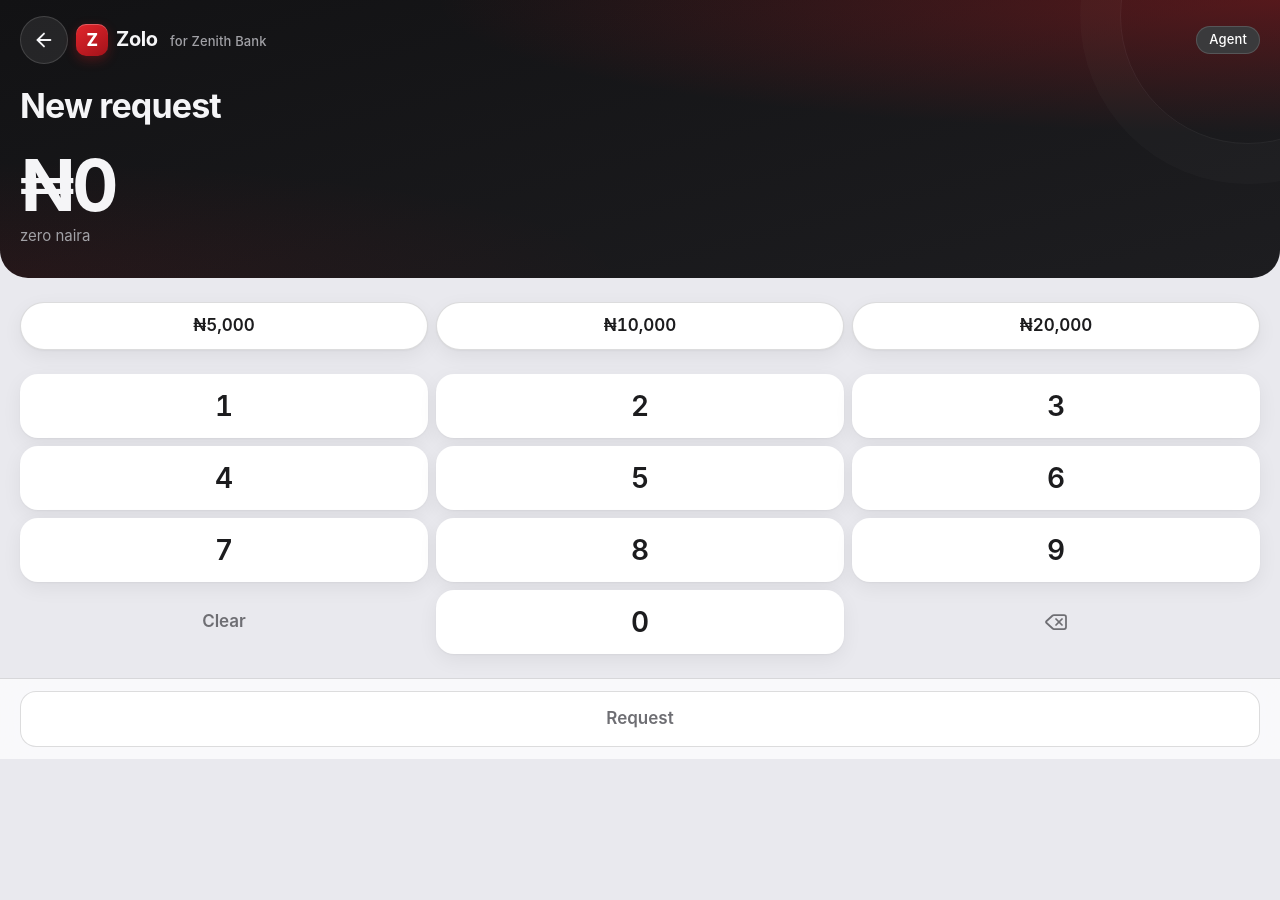
Scenario: Agent: new request › types an amount on the keypad, shows it with words, and the request button names it
Click the button "1" at (224, 406), box [20, 374, 428, 438]
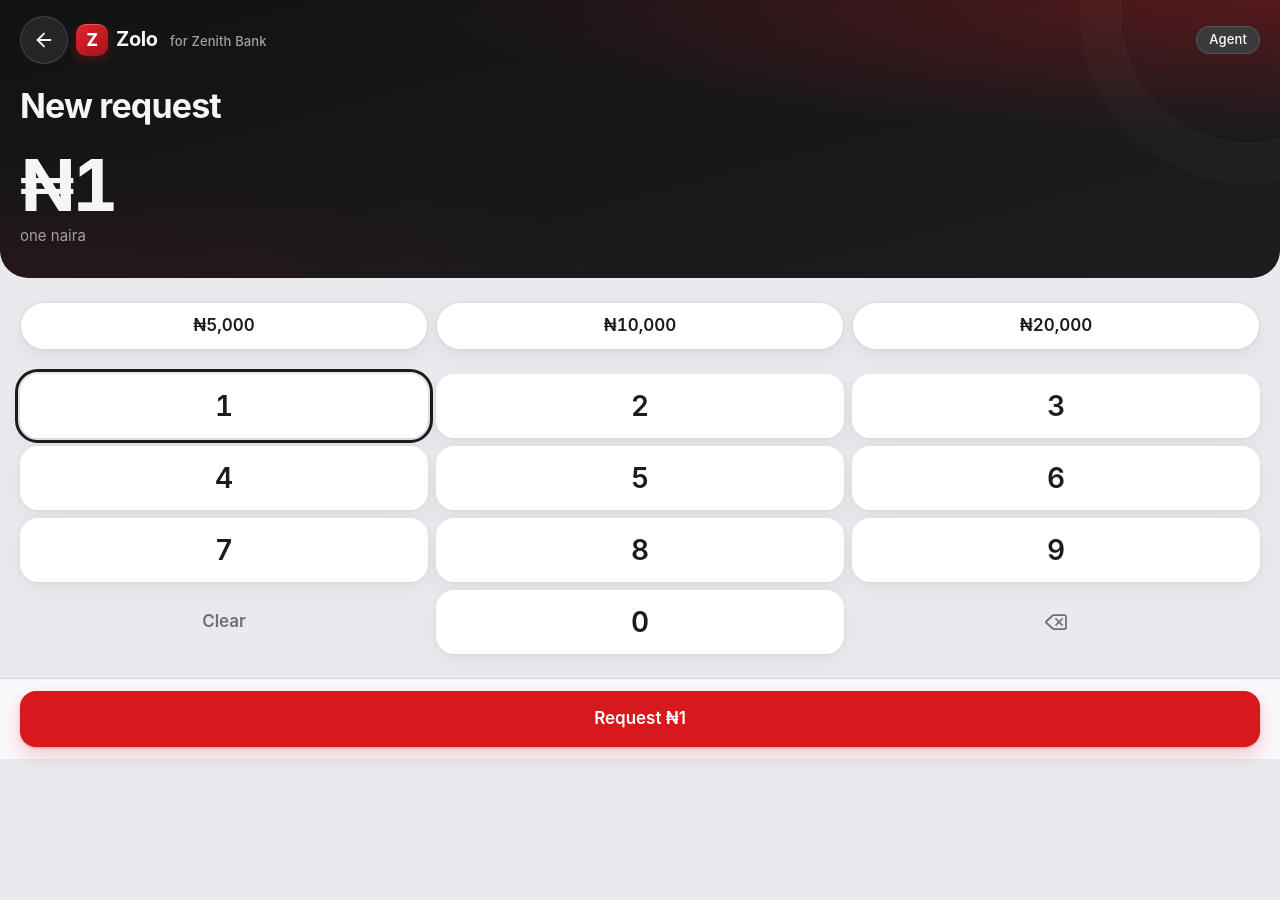
Click the button "5" at (640, 478), box [436, 446, 844, 510]
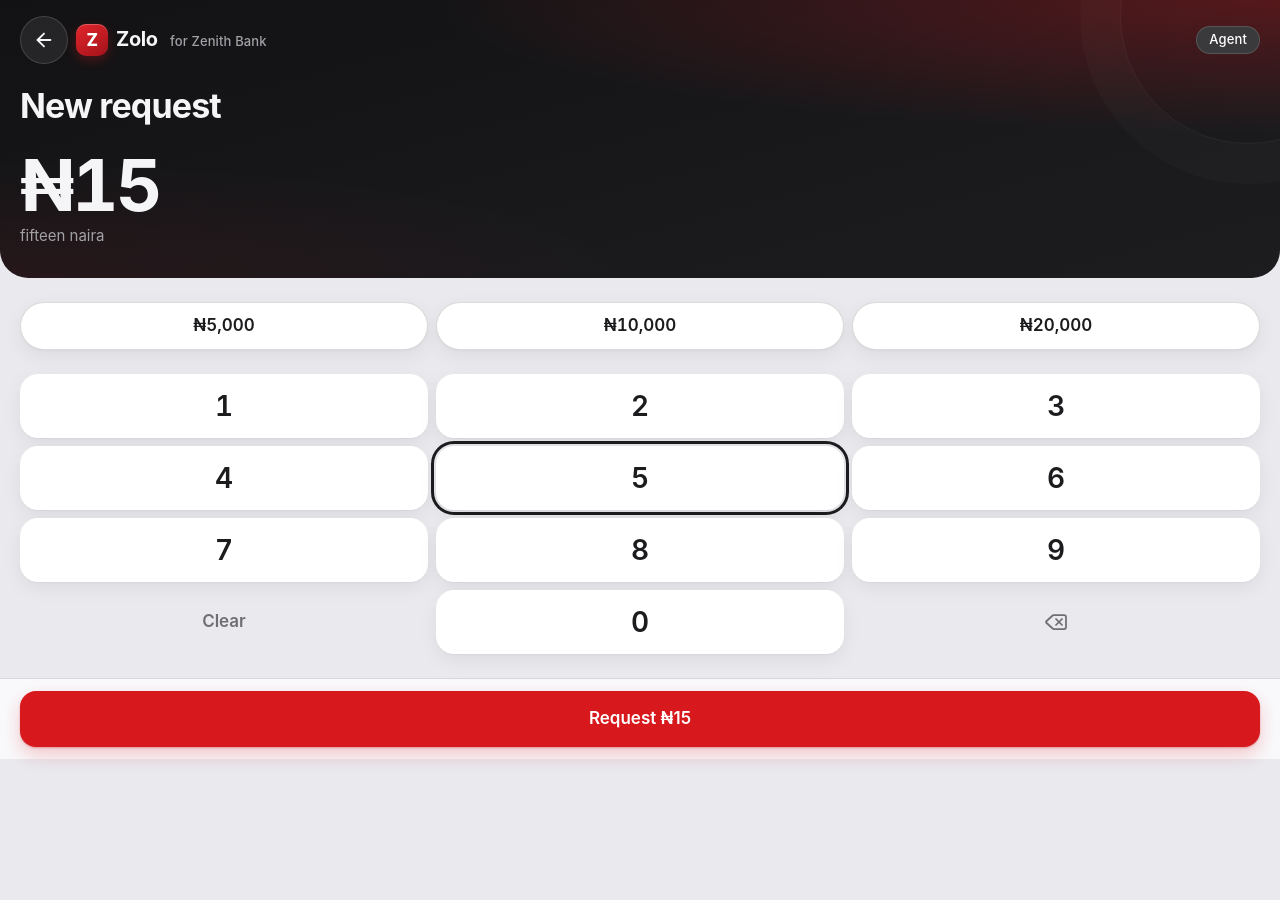
Click the button "0" at (640, 622), box [436, 590, 844, 654]
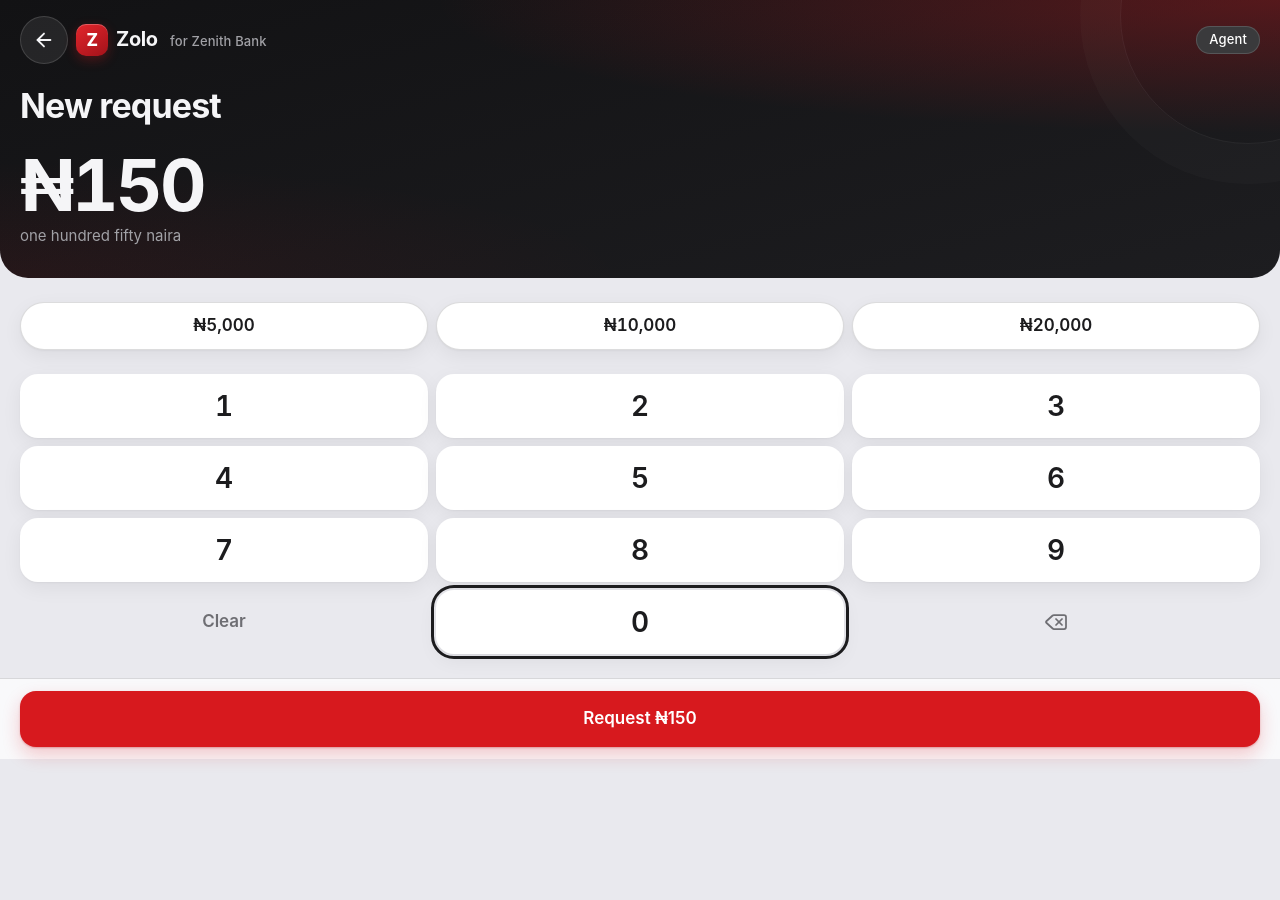
Click the button "0" at (640, 622), box [436, 590, 844, 654]
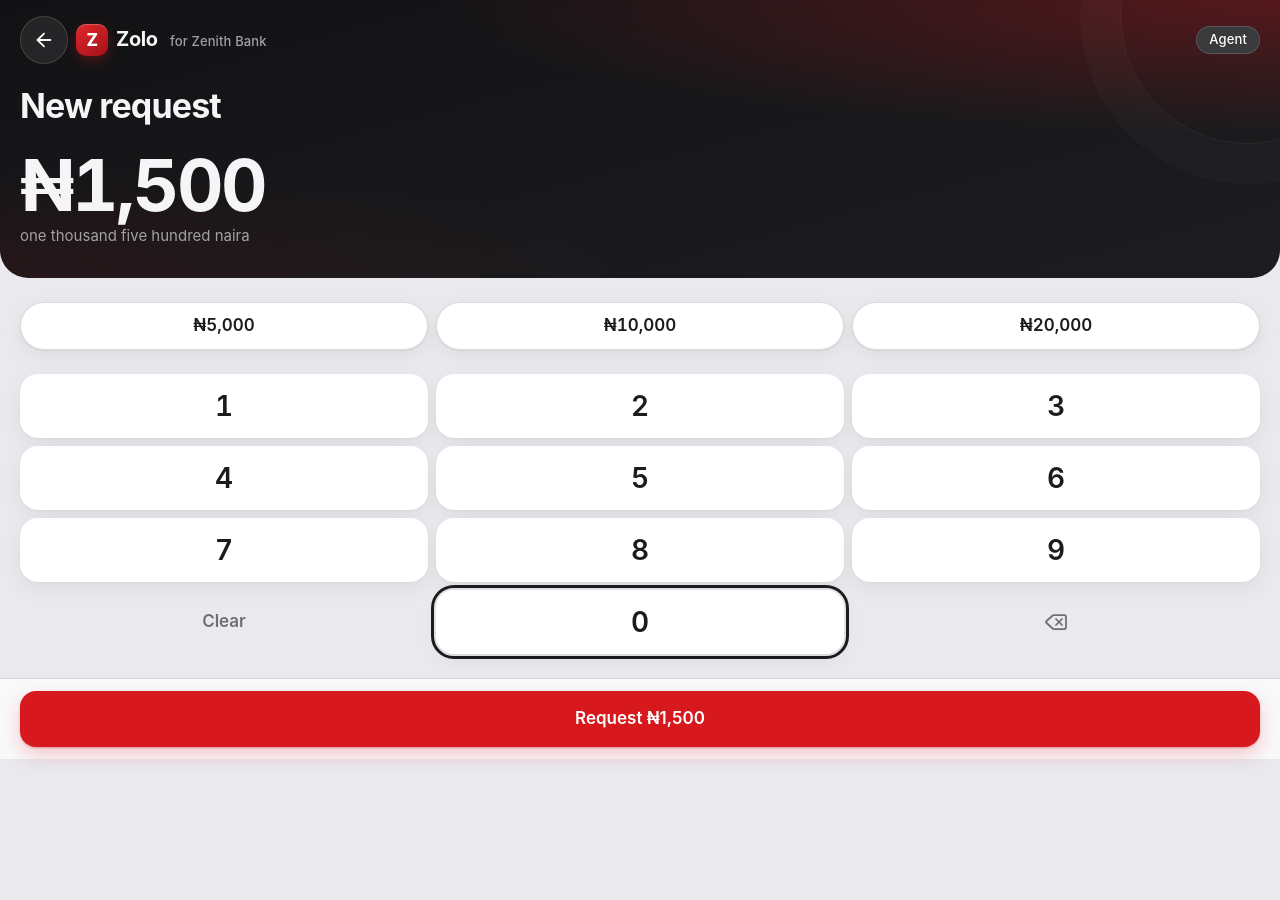
Click the button "0" at (640, 622), box [436, 590, 844, 654]
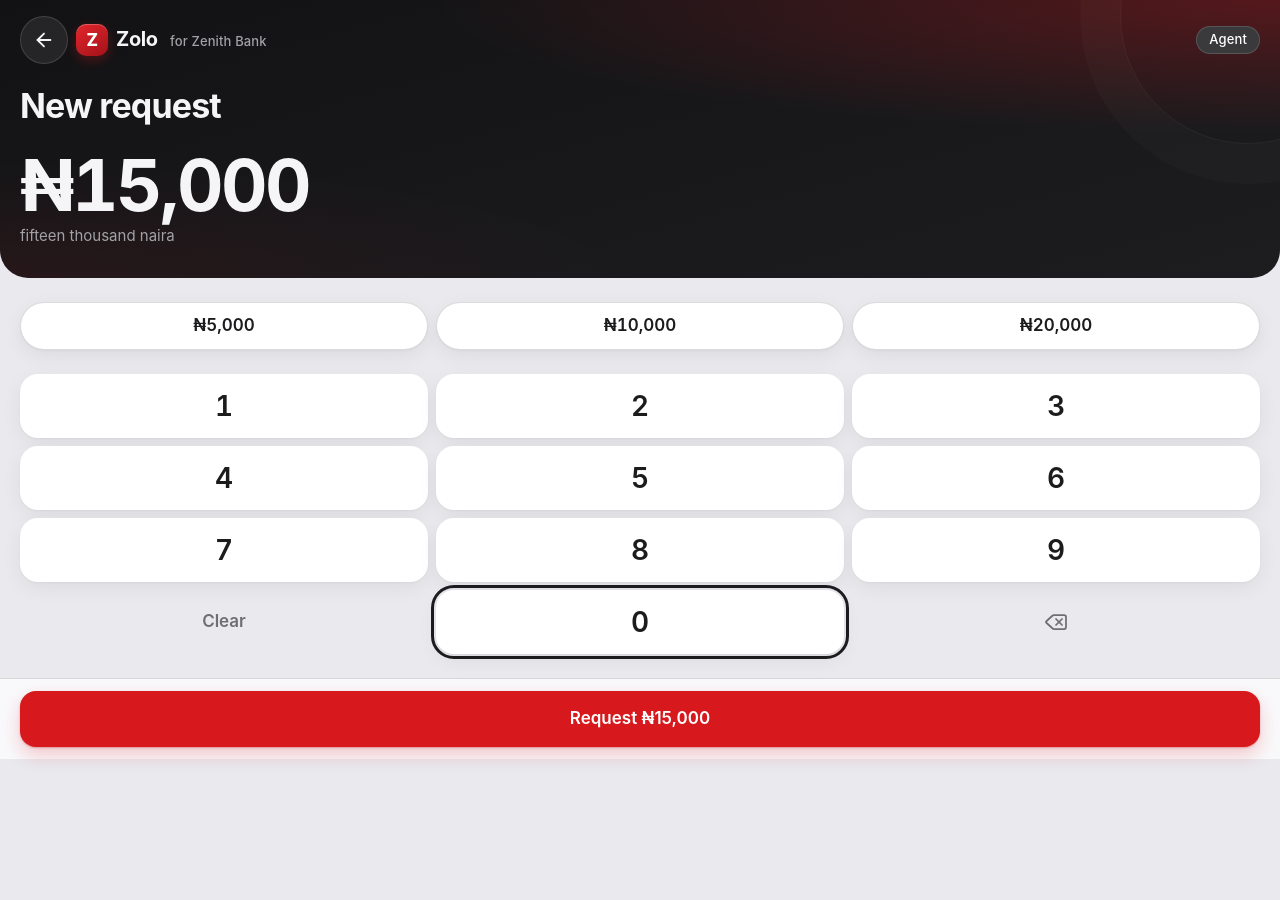
Expected: the text "fifteen thousand naira" is shown, [20, 226, 175, 245]
Expected: the button "Request ₦15,000" is shown, [20, 691, 1260, 747]
